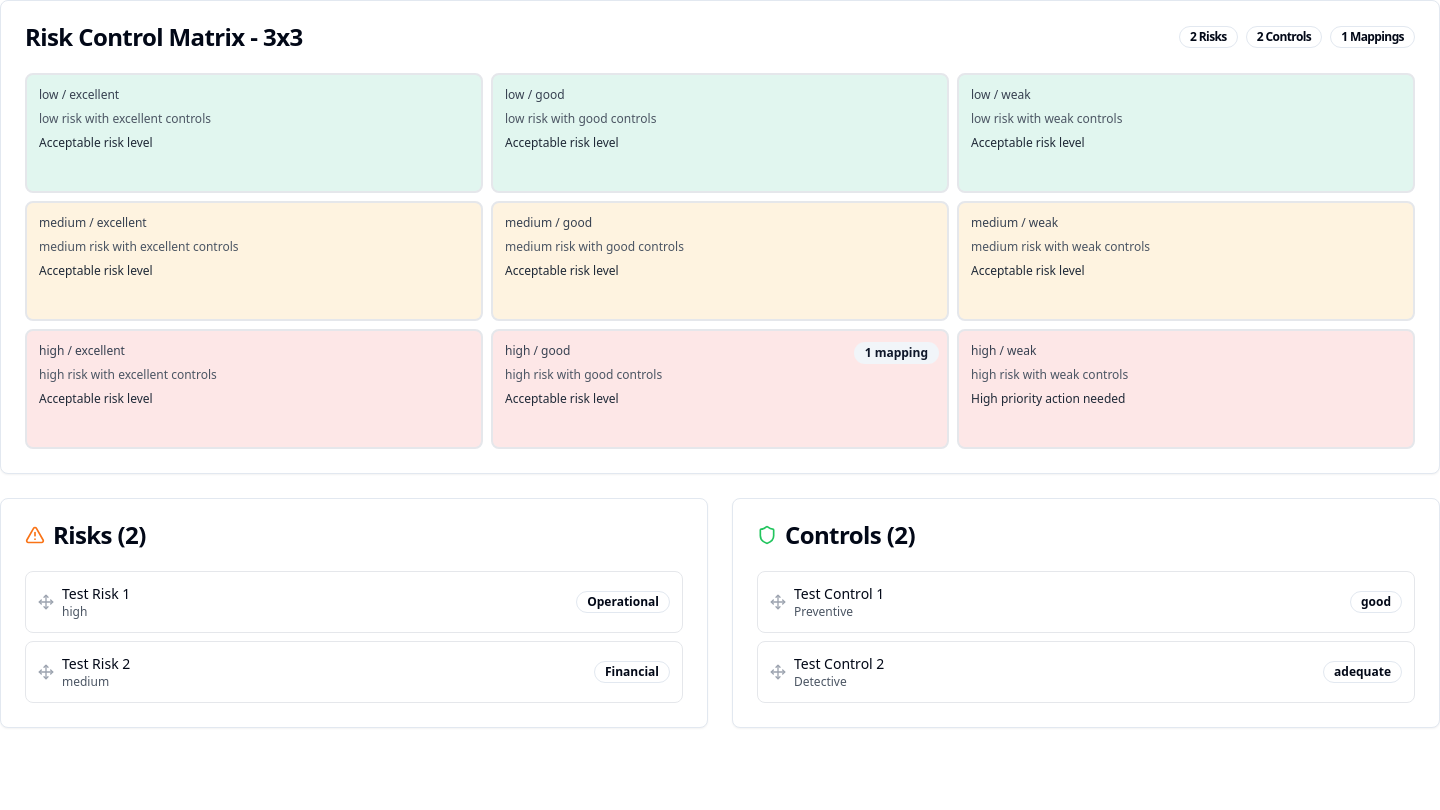
Test: DragDropMatrix › handles cell selection
The image size is (1440, 810).
Click the button with aria-label "Matrix cell low risk, excellent controls" at (94, 94), box [25, 73, 483, 193]
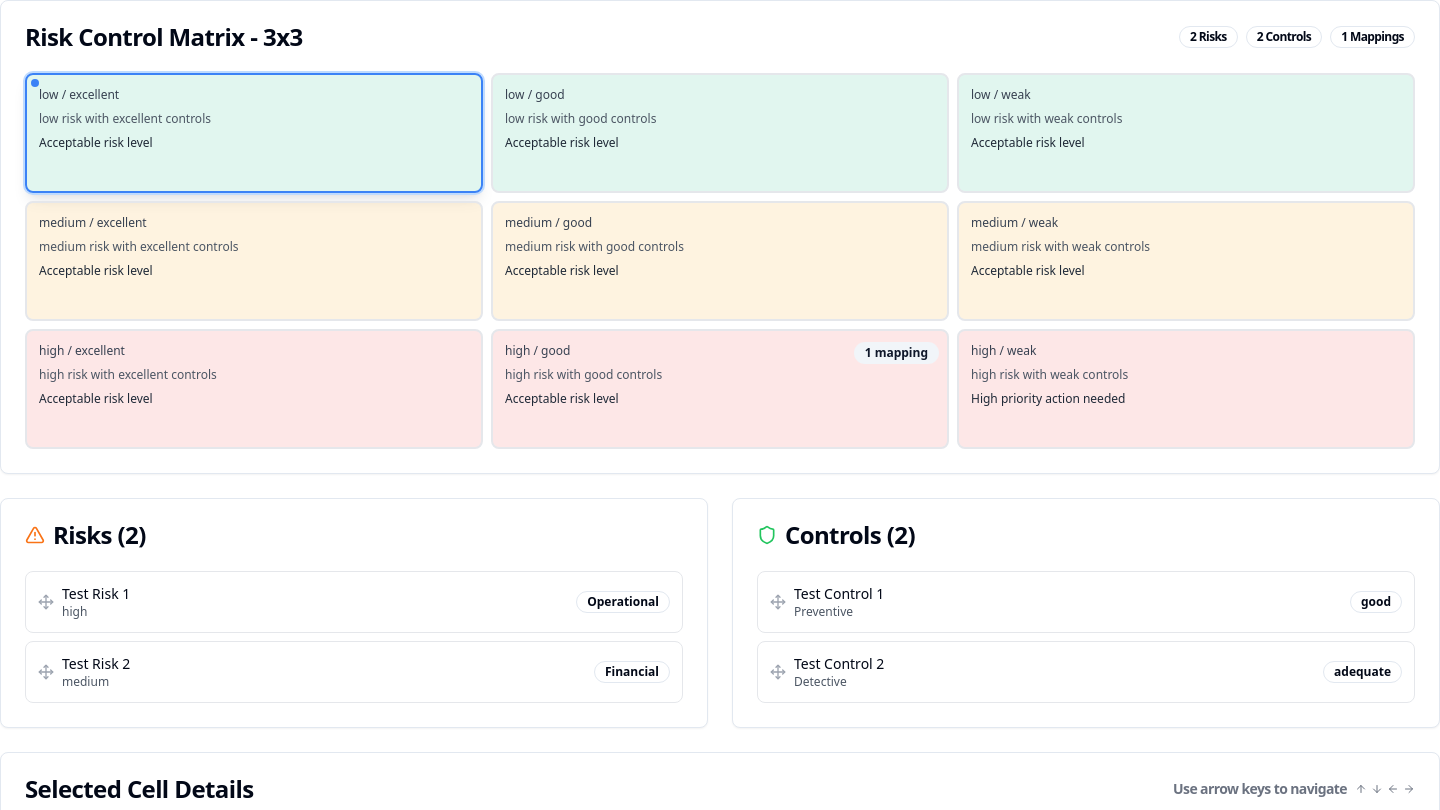
Expected: the text "Selected Cell Details" is shown, [25, 777, 254, 801]
